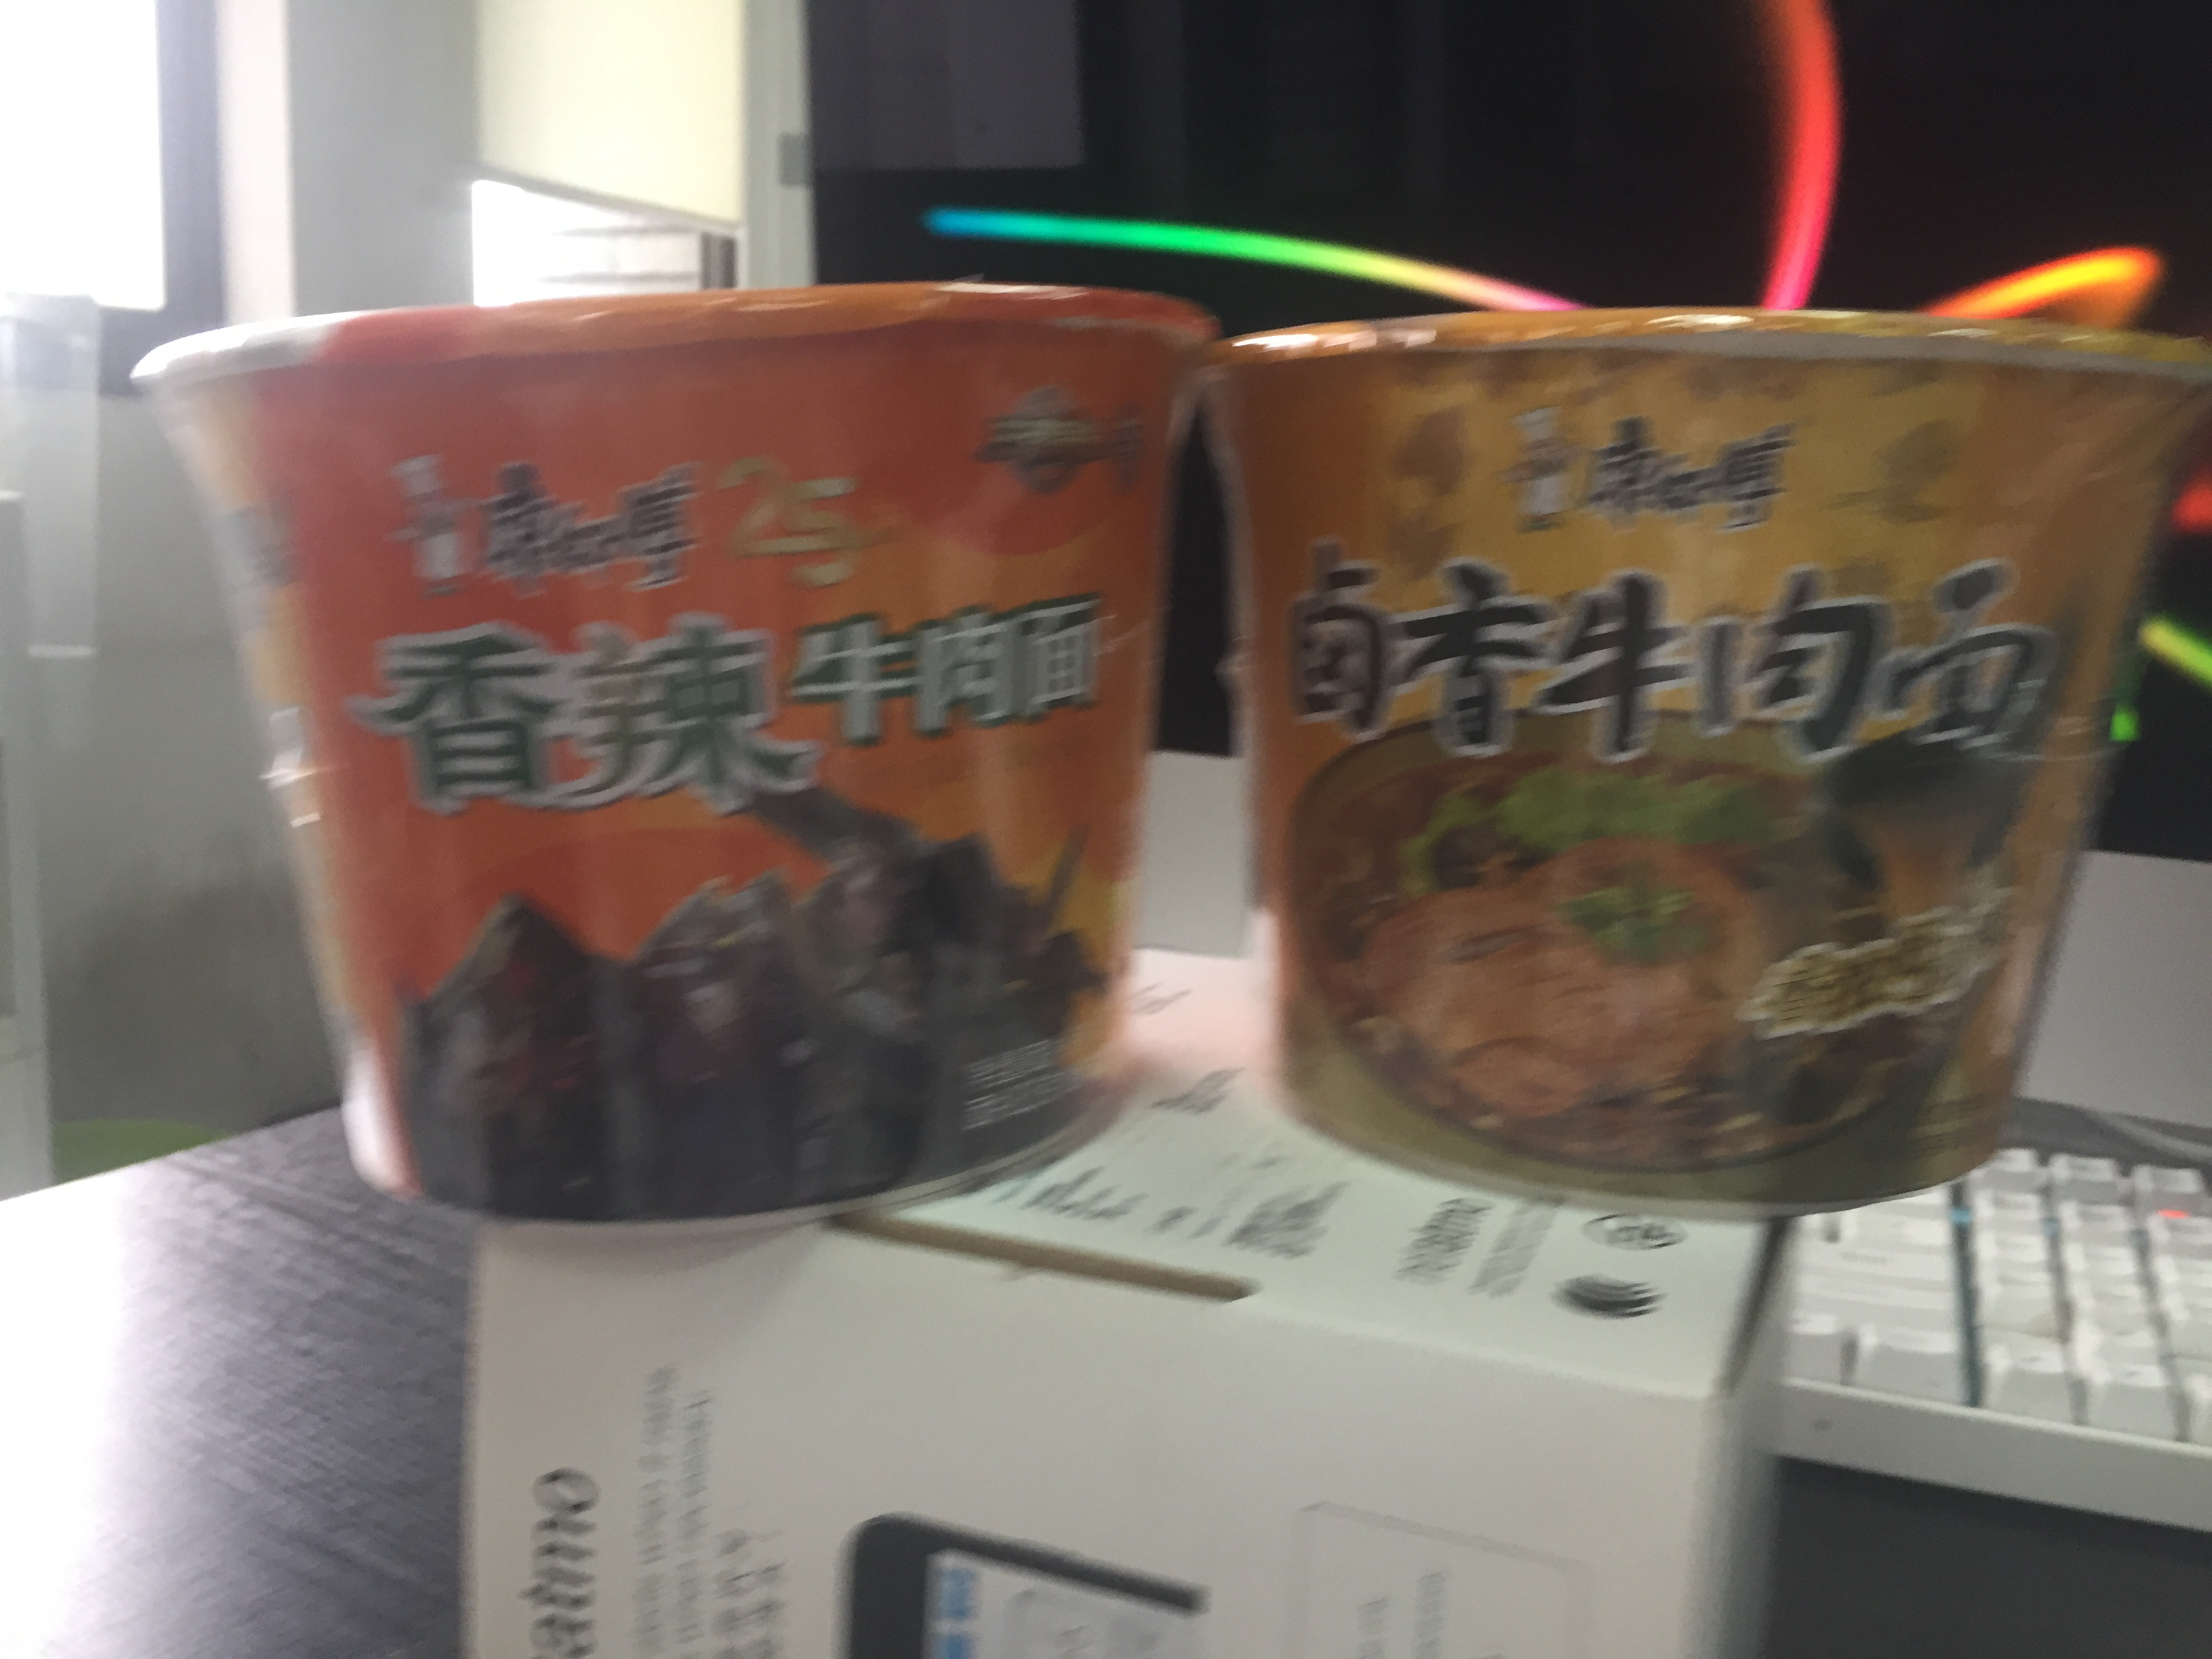luxiang: (1198, 305, 2212, 1223)
xiangla: (127, 281, 1221, 1246)
